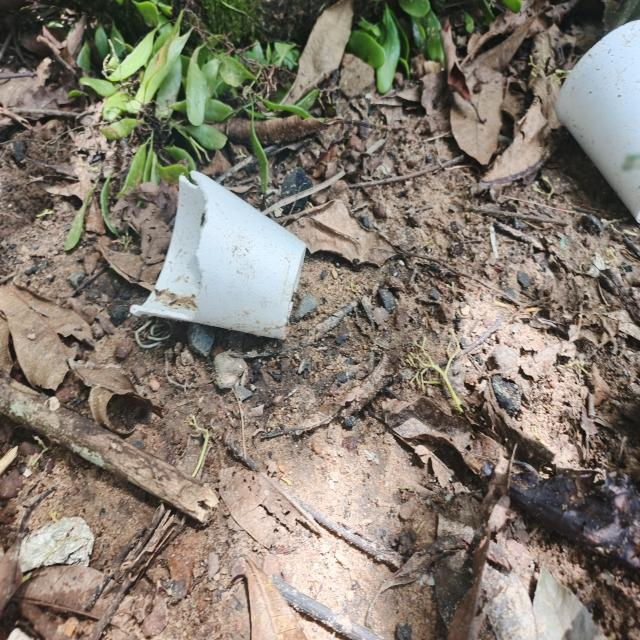plastic: (124, 156, 321, 352), (549, 6, 640, 226)
